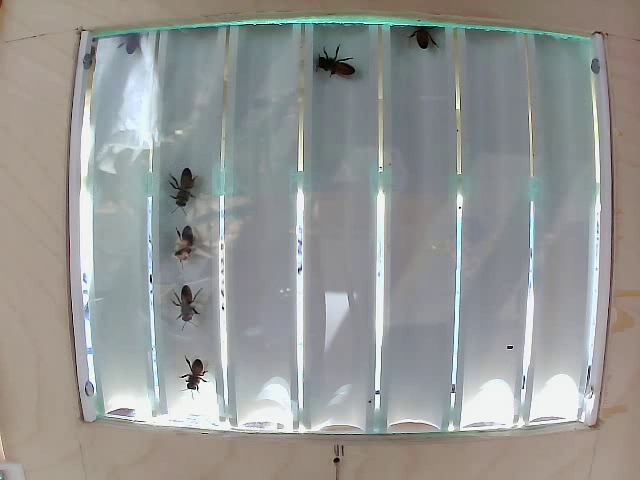bee: (166, 213, 213, 269), (162, 168, 209, 214), (170, 289, 208, 331), (310, 54, 348, 93), (403, 20, 445, 52), (178, 360, 207, 400)
